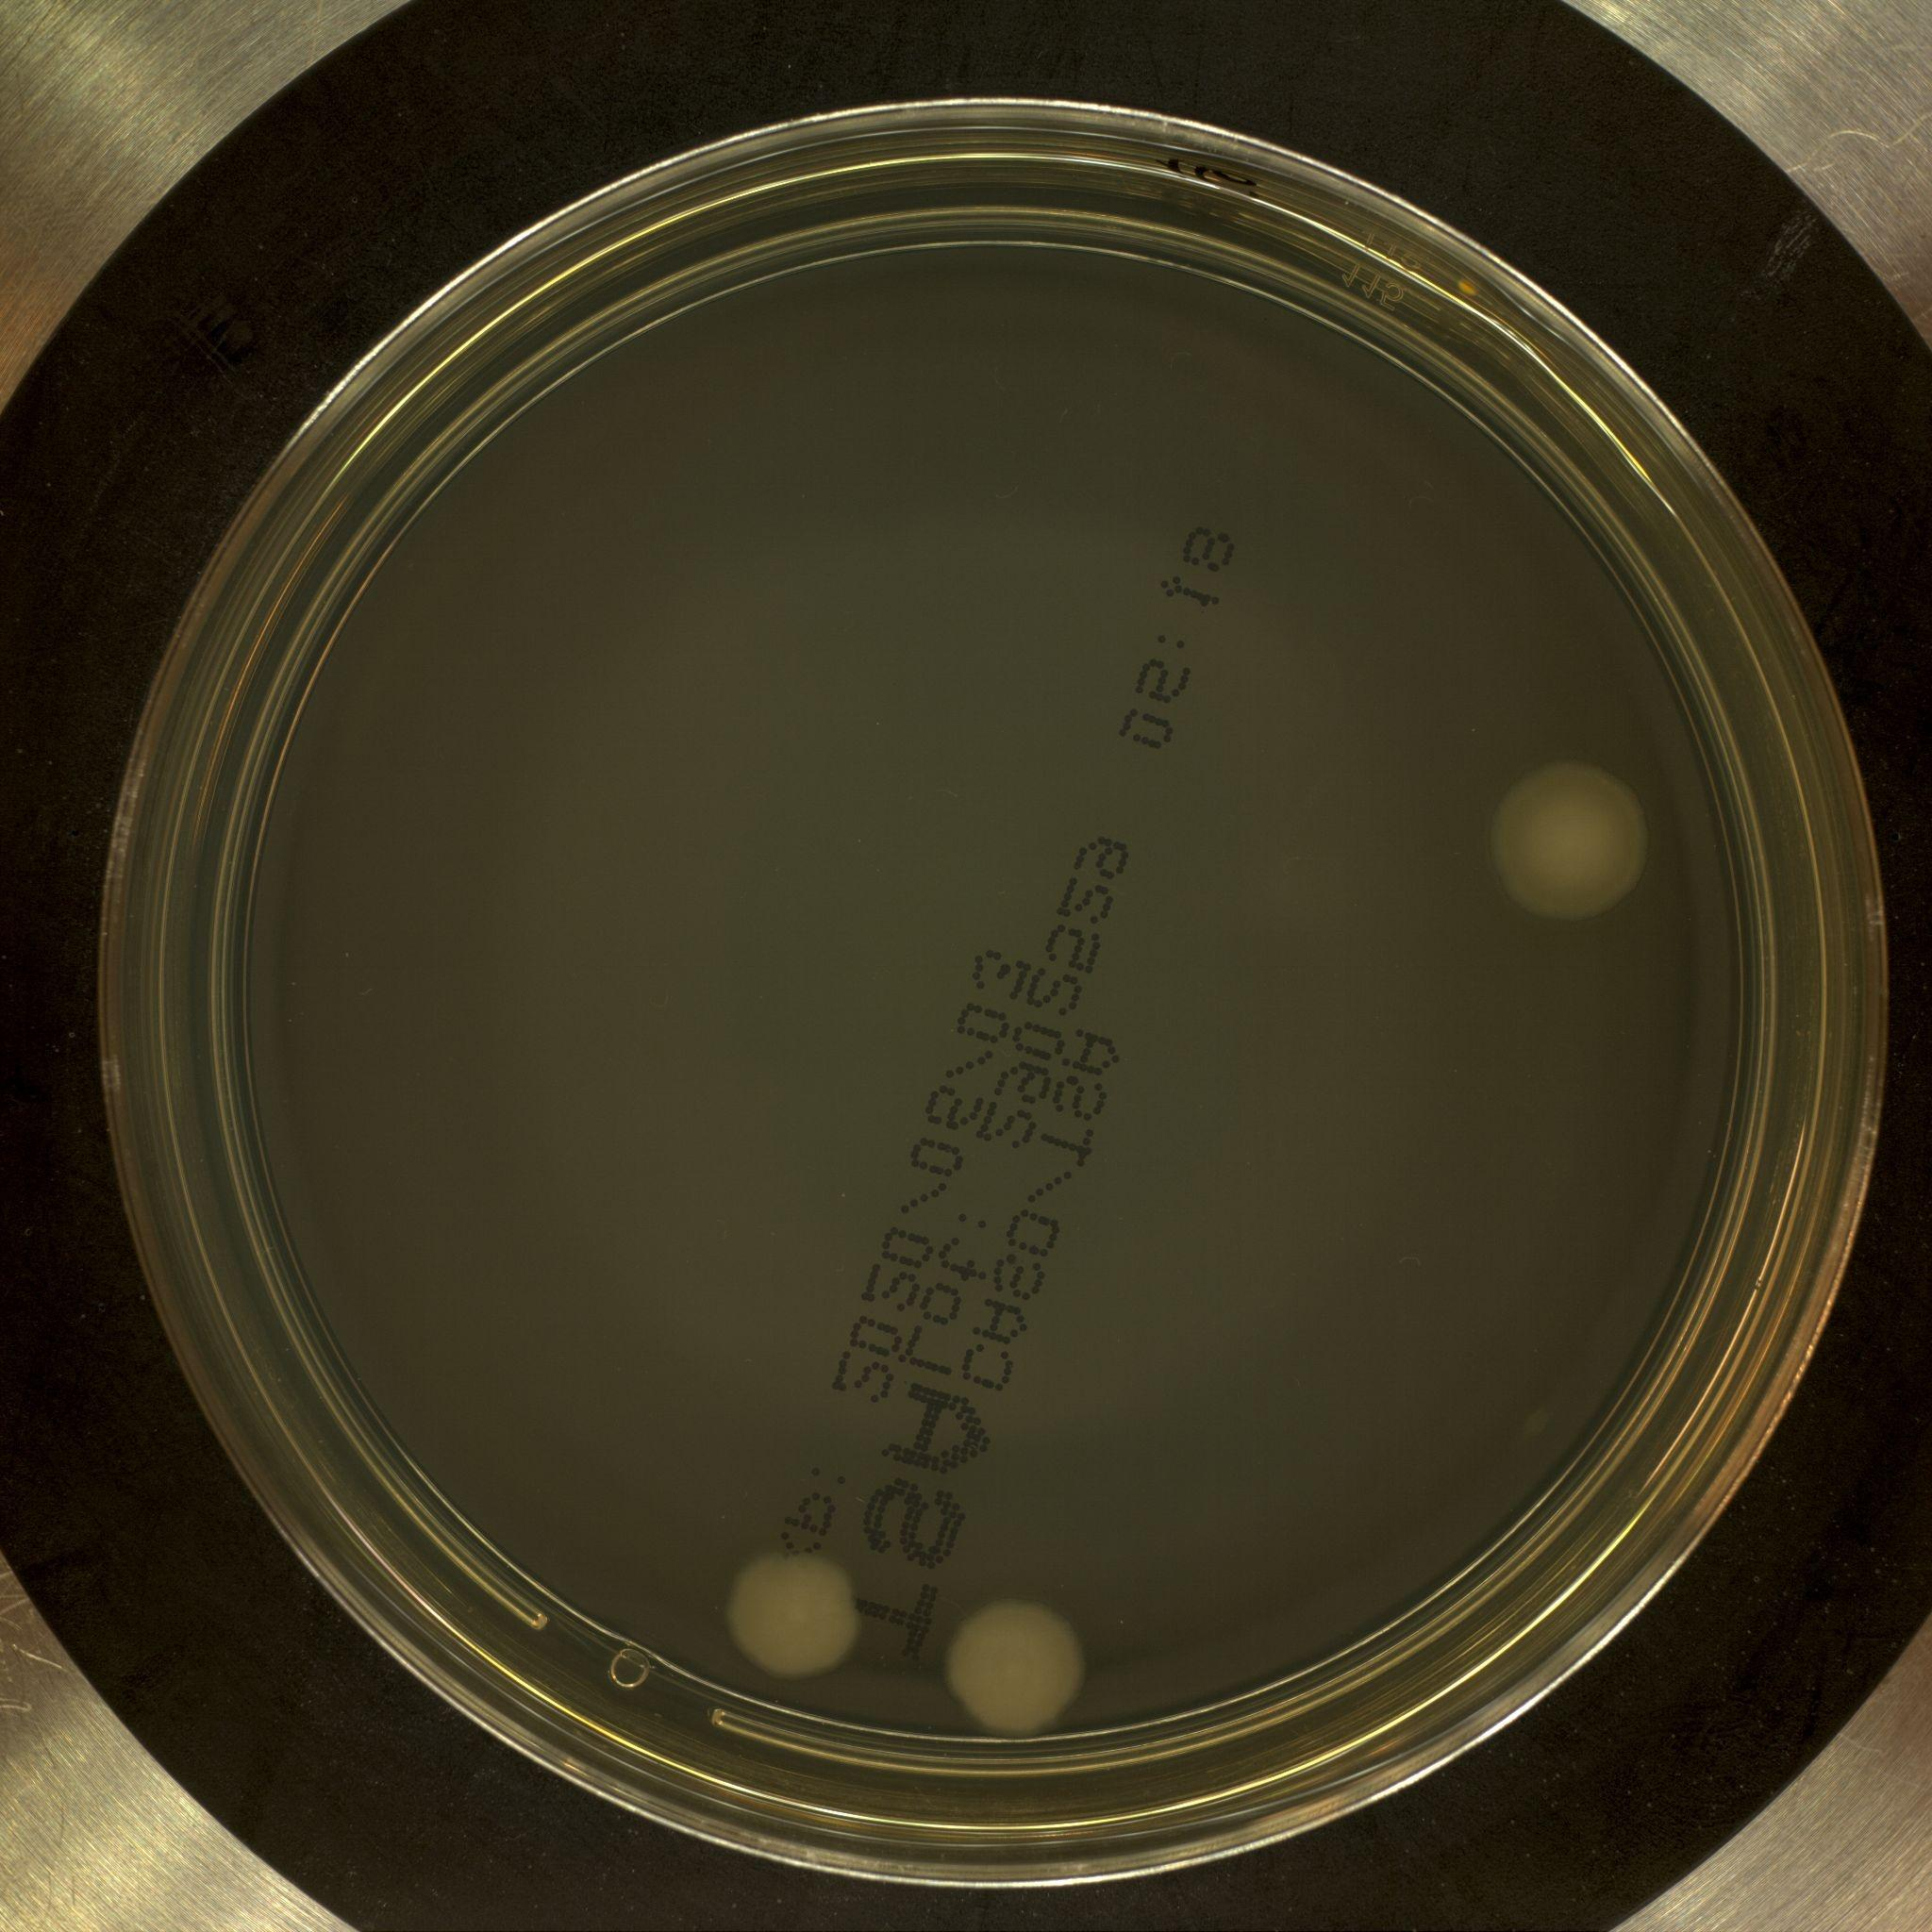e. coli: (1483, 745, 1656, 939), (715, 1532, 869, 1693), (939, 1585, 1090, 1736)
